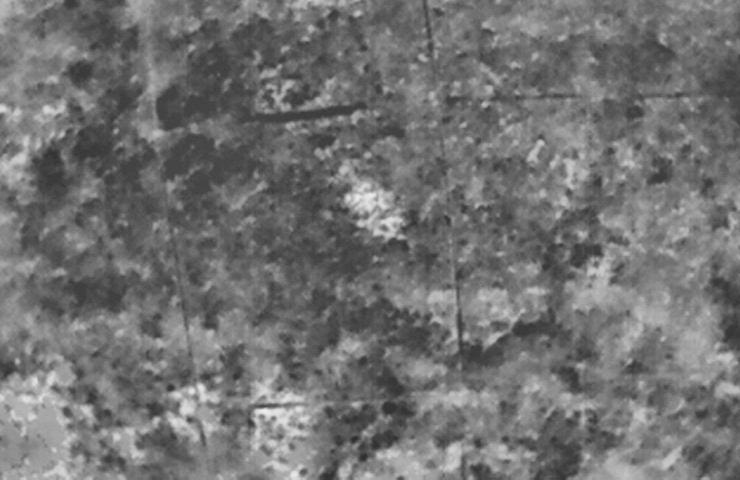landmines: (347, 181, 395, 217)
